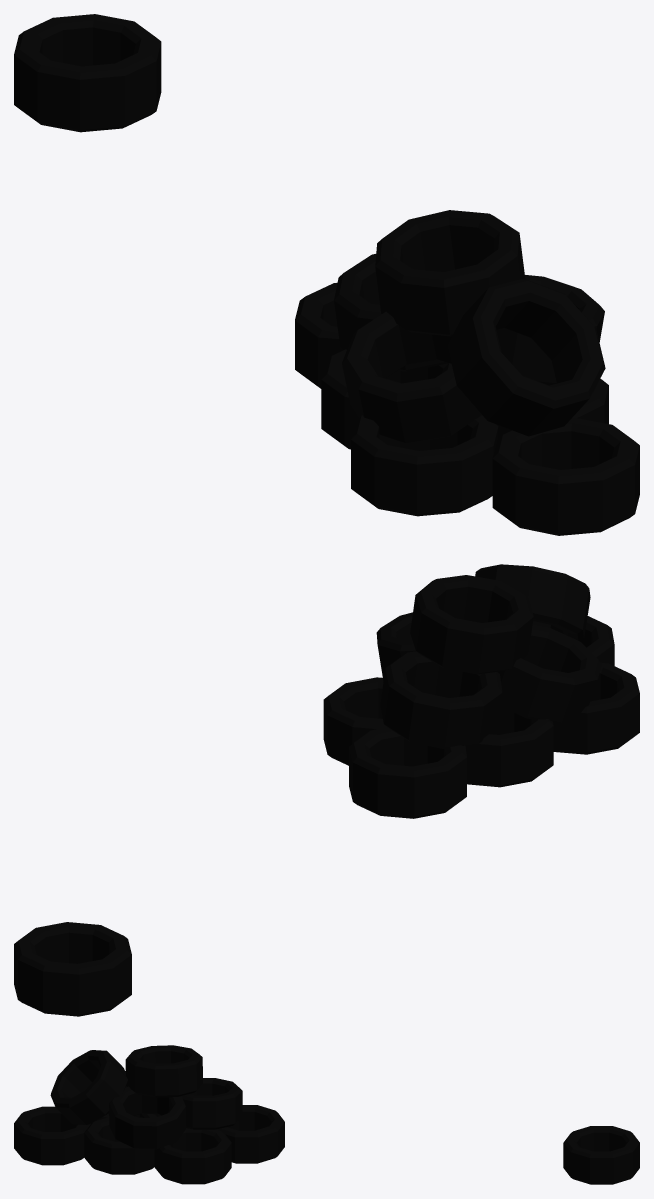
File: tires.fbx
The picture shows the model from 3 angles, top to bottom: view 1: azimuth 30°, elevation 25°; view 2: azimuth 150°, elevation 25°; view 3: azimuth 270°, elevation 25°; orthographic projection. The views are drawn at different scales.
Visible parts, largest first — view 1: Tires, Tire; view 2: Tires, Tire; view 3: Tires, Tire.
Boxes of the visible parts, x1,y1,x2,y2 form: Tires: [295, 210, 639, 535]; Tire: [14, 14, 161, 132]; Tires: [323, 564, 639, 818]; Tire: [14, 922, 131, 1016]; Tires: [14, 1045, 284, 1184]; Tire: [563, 1126, 639, 1184].
Size of the model in its own units: 1.39 by 0.9179 by 5.14.
